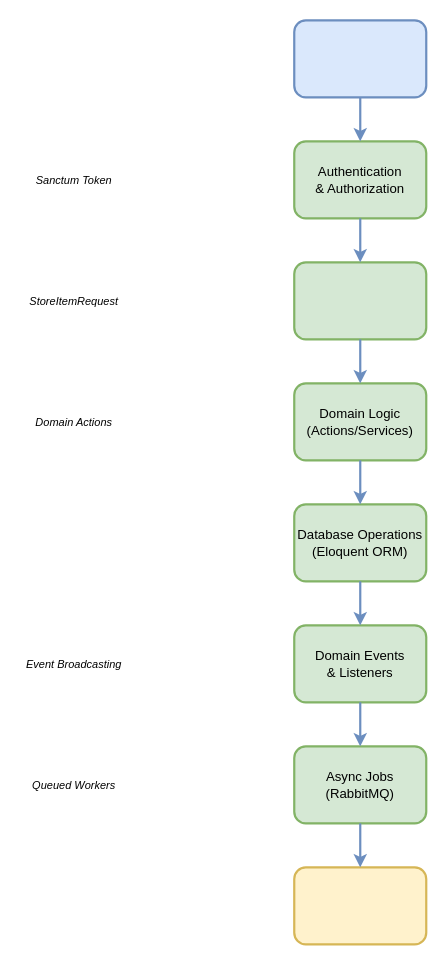
This 446x964 diagram has some shape labels left out. Each missing label, with the centre of its shape:
"API Request" goes at pixel 360 58.
"JSON Response (Resource)" goes at pixel 360 905.
"Request Validation (FormRequest)" goes at pixel 360 300.
